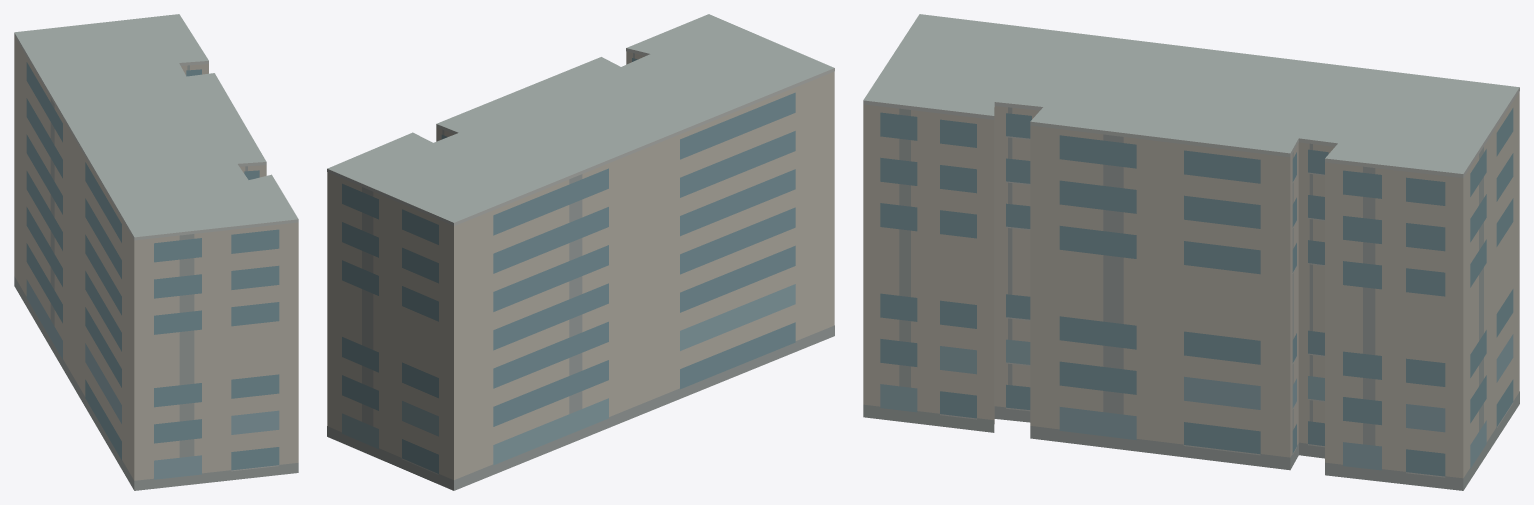
The model's file is survey-upis-32880776.glb.
The picture shows the model from 3 angles, left to right: view 1: azimuth 30°, elevation 25°; view 2: azimuth 150°, elevation 25°; view 3: azimuth 270°, elevation 25°; orthographic projection. The views are drawn at different scales.
Parts seen in each view (by area): view 1: survey-upis-32880776.tmp; view 2: survey-upis-32880776.tmp; view 3: survey-upis-32880776.tmp.
Boxes of the visible parts, <box> form: survey-upis-32880776.tmp: <box>14,14,298,490</box>; survey-upis-32880776.tmp: <box>327,14,834,490</box>; survey-upis-32880776.tmp: <box>863,14,1519,490</box>.
Size of the model in its own units: 21.36 by 19.7 by 37.01.
